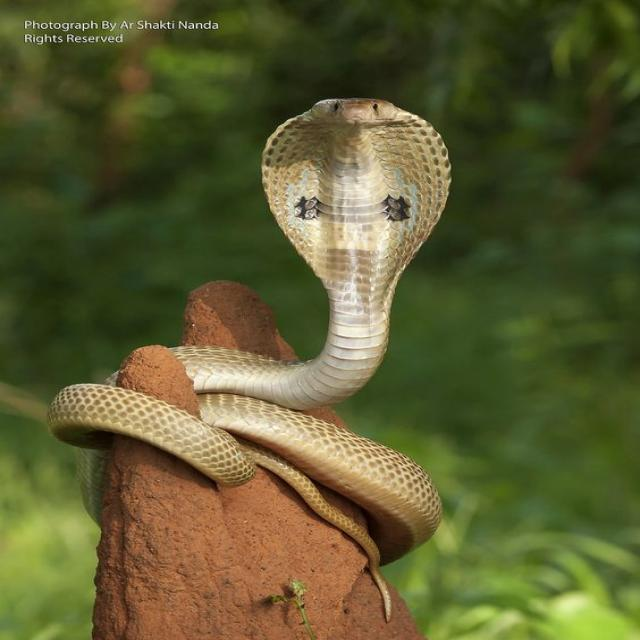Snake: (38, 62, 554, 576)
